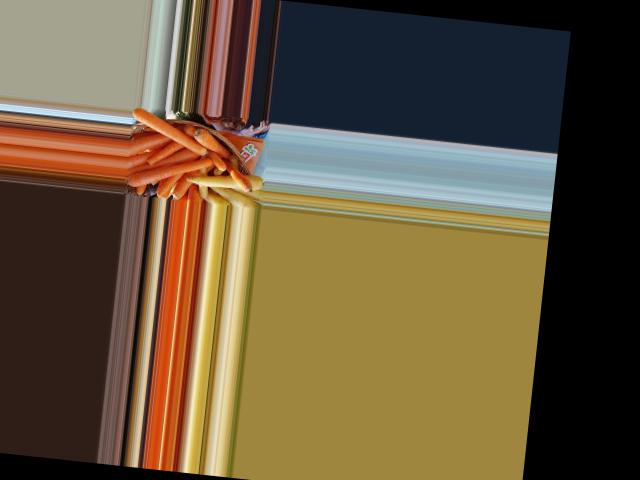carrot: (194, 125, 239, 159)
